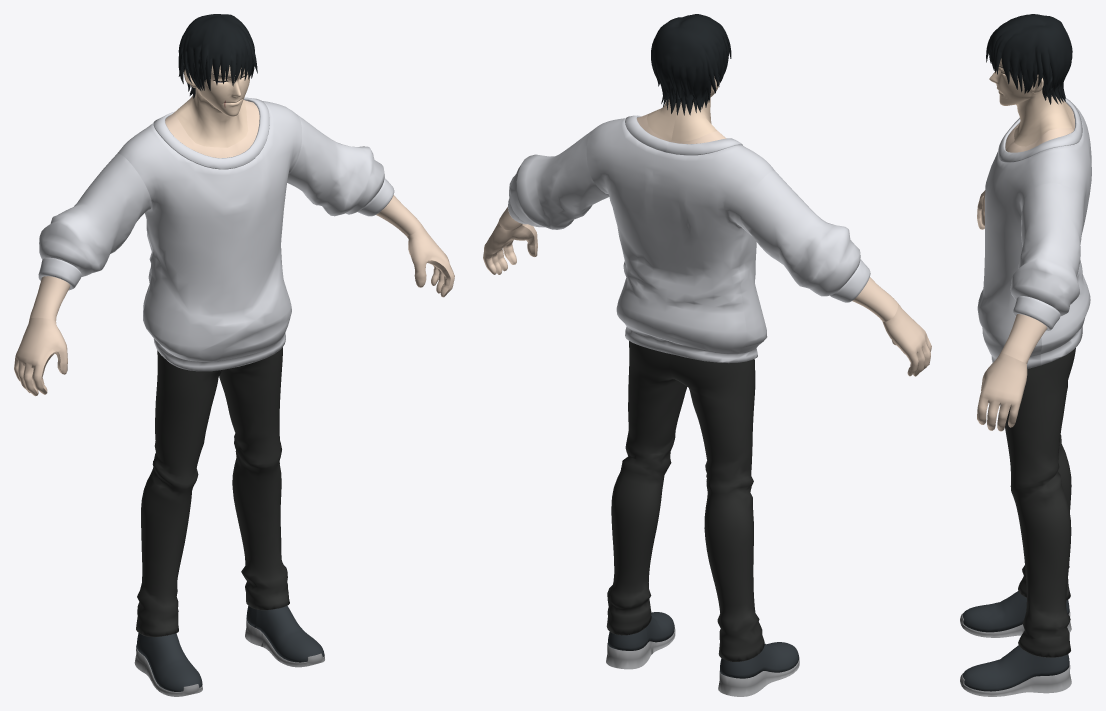
The model's file is toji-reference.glb.
The picture shows the model from 3 angles, left to right: view 1: azimuth 30°, elevation 25°; view 2: azimuth 150°, elevation 25°; view 3: azimuth 270°, elevation 25°; orthographic projection.
Parts seen in each view (by area): view 1: Body, Hair, Head; view 2: Body, Hair, Head; view 3: Body, Hair, Head.
Boxes of the visible parts, bbox=[...] form: Body: bbox=[14, 97, 454, 696]; Hair: bbox=[178, 14, 257, 98]; Head: bbox=[175, 65, 250, 147]; Body: bbox=[483, 114, 931, 696]; Hair: bbox=[651, 14, 731, 115]; Head: bbox=[647, 76, 719, 141]; Body: bbox=[960, 98, 1091, 696]; Hair: bbox=[986, 14, 1072, 104]; Head: bbox=[989, 58, 1072, 146].
Size of the model in its own units: 1.19 by 1.7 by 0.3169.
Materials: 3 (3 with a texture image).
